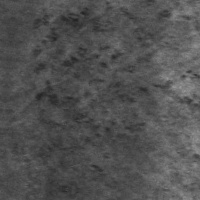rolled-in_scale: (21, 2, 126, 139), (145, 36, 199, 122)
